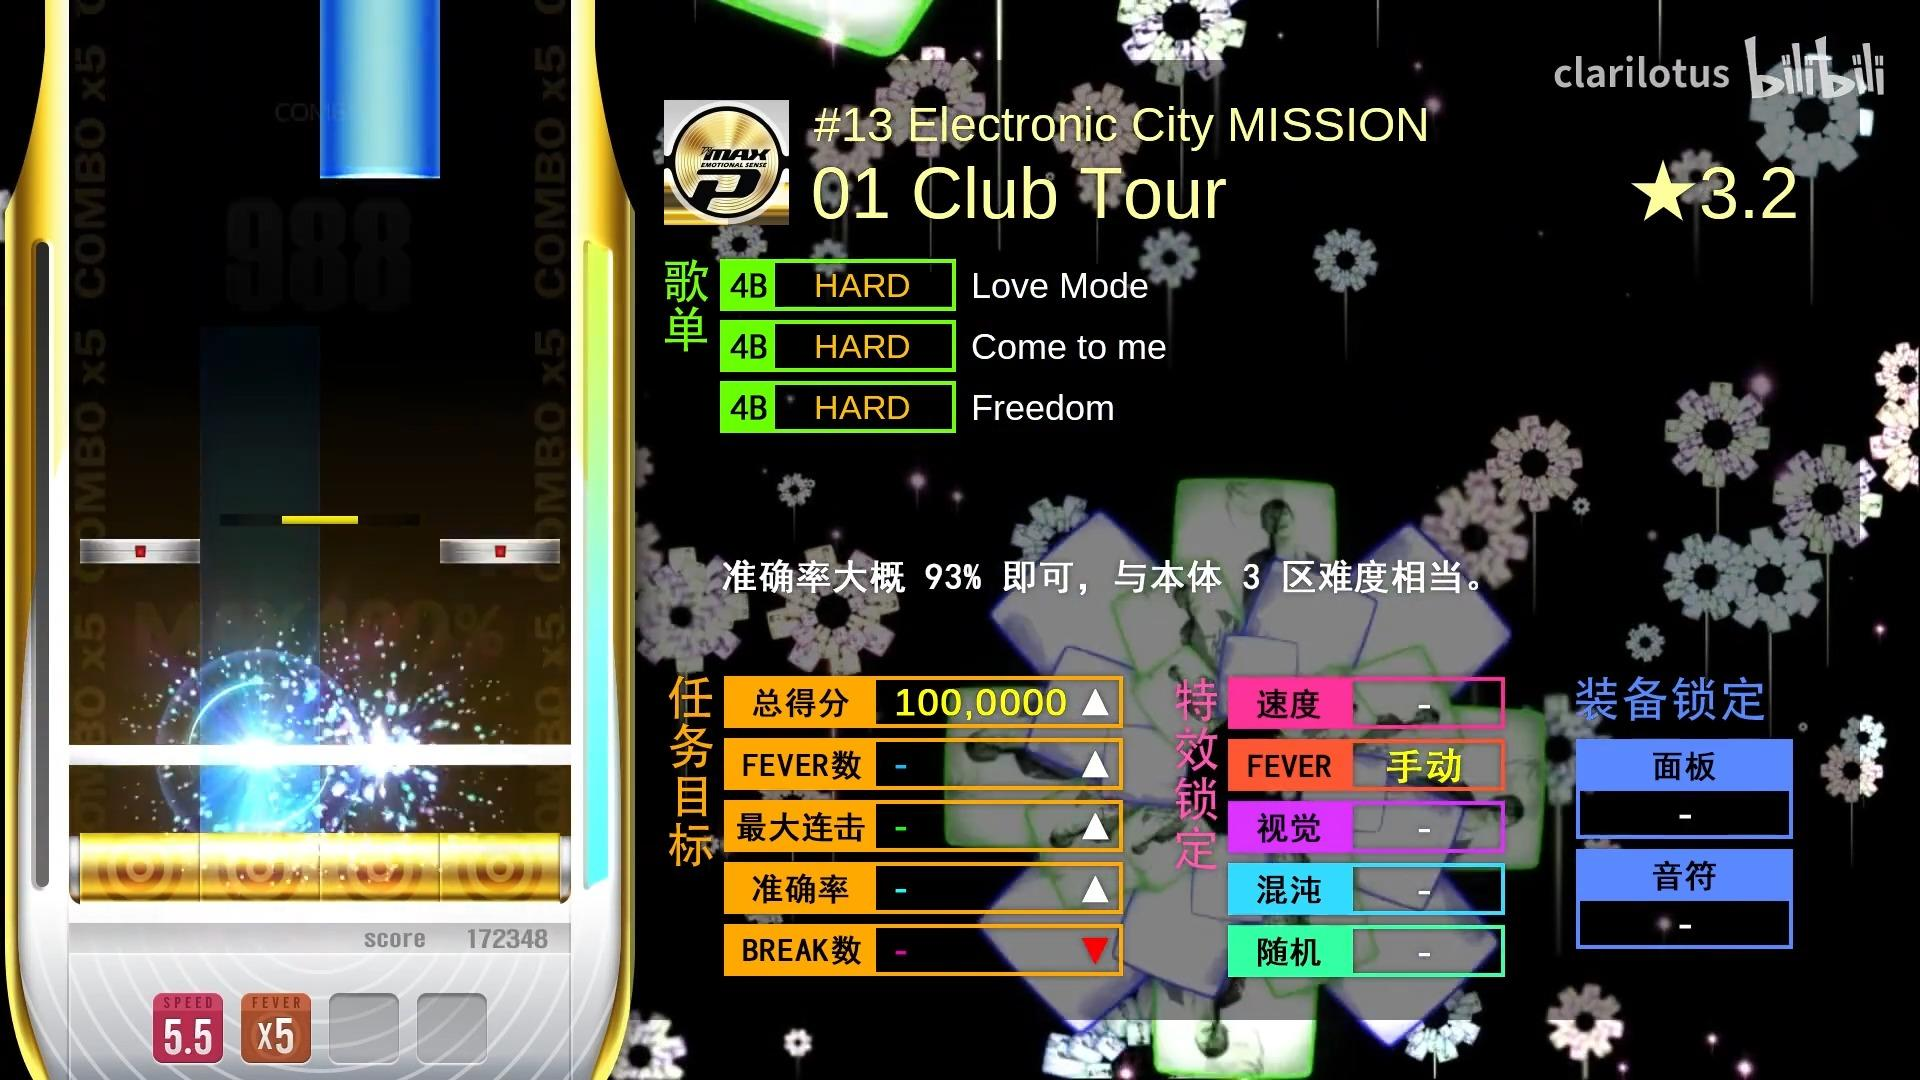hold-start: (320, 148, 440, 179)
note: (438, 537, 562, 564), (79, 537, 202, 564)
